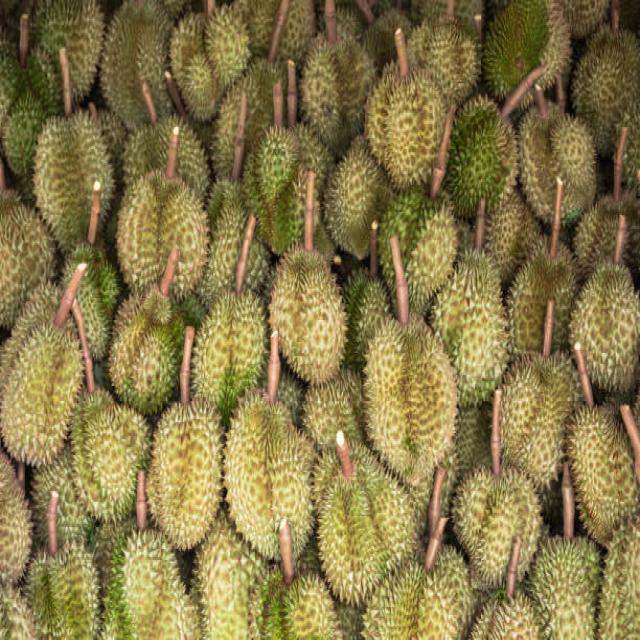mature: (238, 0, 281, 55)
